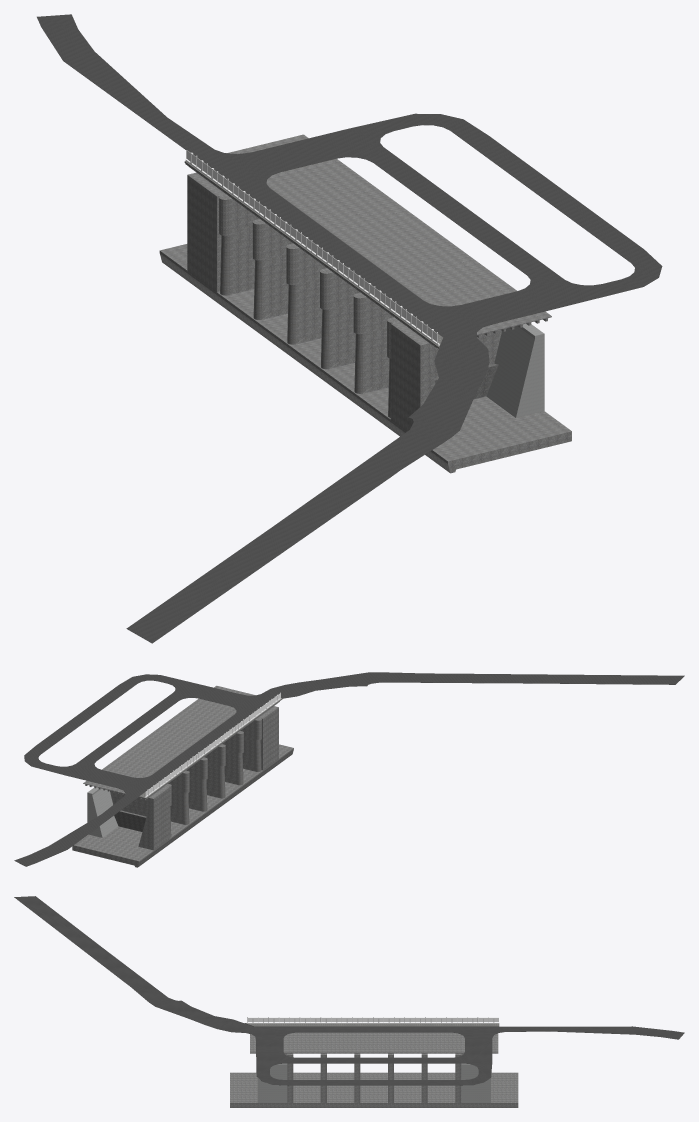
The model's file is laozha.fbx.
The picture shows the model from 3 angles, top to bottom: view 1: azimuth 30°, elevation 25°; view 2: azimuth 150°, elevation 25°; view 3: azimuth 270°, elevation 25°; orthographic projection. The views are drawn at different scales.
Visible parts, largest first — view 1: Mesh (×5); view 2: Mesh (×5); view 3: Mesh (×5).
Boxes of the visible parts, x1=… form: Mesh (×5): x1=37, y1=14, x2=662, y2=643; Mesh (×5): x1=14, y1=672, x2=684, y2=867; Mesh (×5): x1=14, y1=896, x2=684, y2=1107.
Bounding box in the file's own units: 163 × 25.46 × 244.
Materials: 6 (4 with a texture image).
